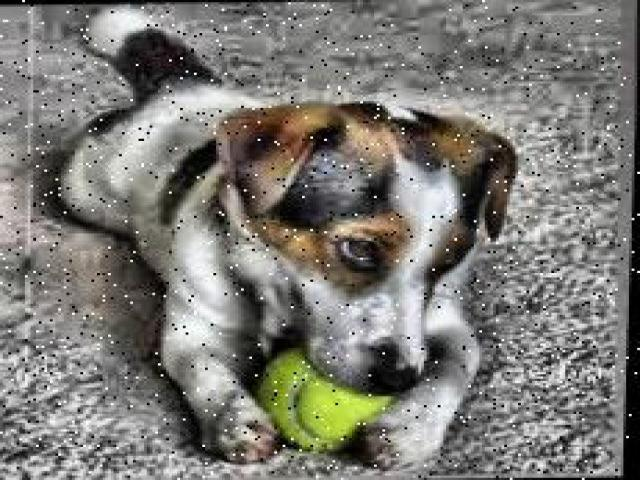tennis-ball: (256, 343, 401, 458)
